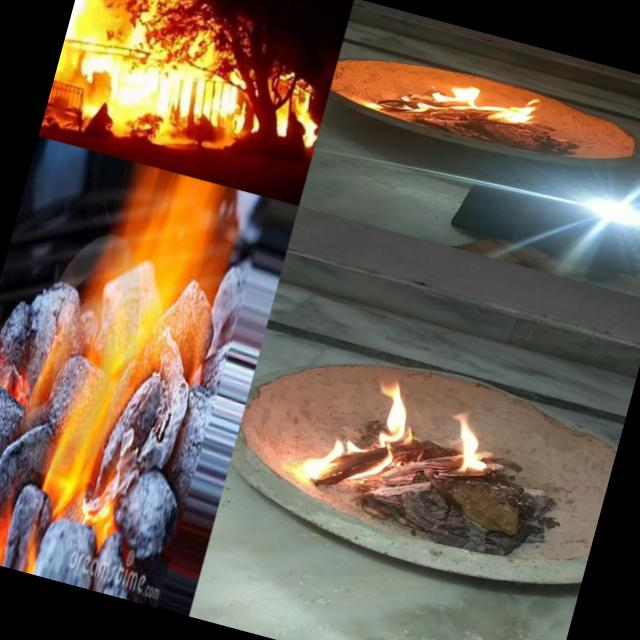fire: (34, 168, 235, 536), (374, 60, 566, 156), (436, 393, 520, 489), (363, 372, 433, 461), (294, 424, 363, 494), (282, 92, 326, 152), (64, 0, 115, 44)
